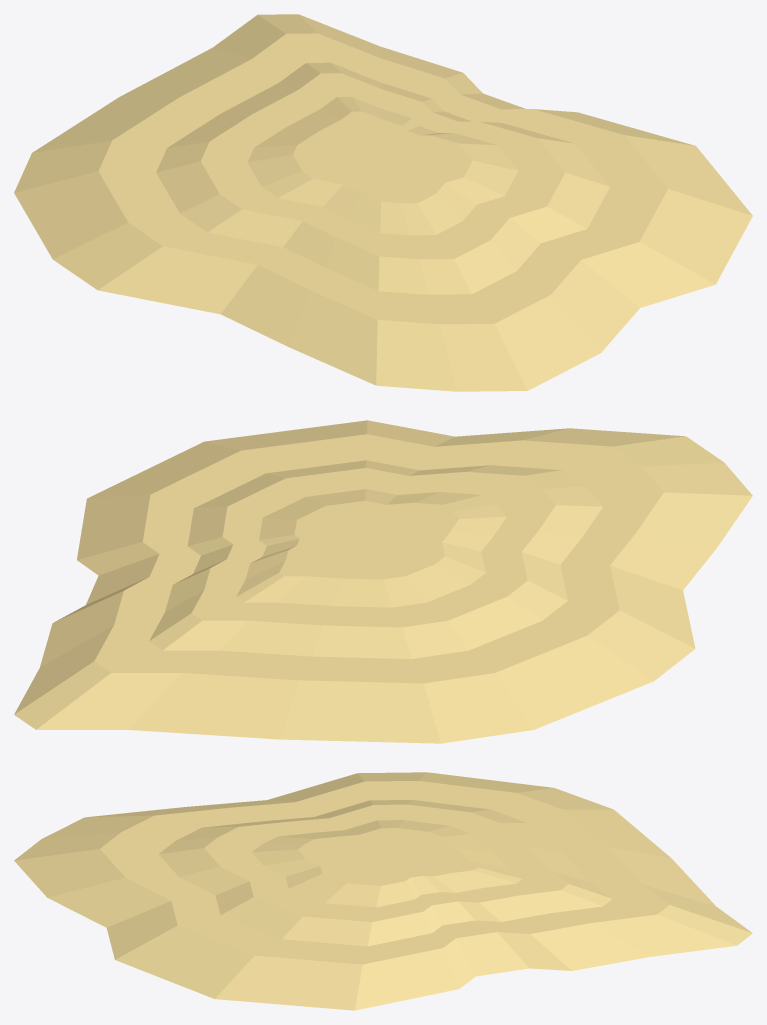
Rendered from island-01.fbx.
The picture shows the model from 3 angles, top to bottom: view 1: azimuth 30°, elevation 25°; view 2: azimuth 150°, elevation 25°; view 3: azimuth 270°, elevation 25°; orthographic projection. The views are drawn at different scales.
Parts seen in each view (by area): view 1: Cube; view 2: Cube; view 3: Cube.
Boxes of the visible parts, box(x1,y1,x2,y2) form: Cube: box(14, 14, 752, 391); Cube: box(14, 420, 752, 743); Cube: box(14, 772, 752, 1010).
Size of the model in its own units: 3847 by 275 by 5041.
